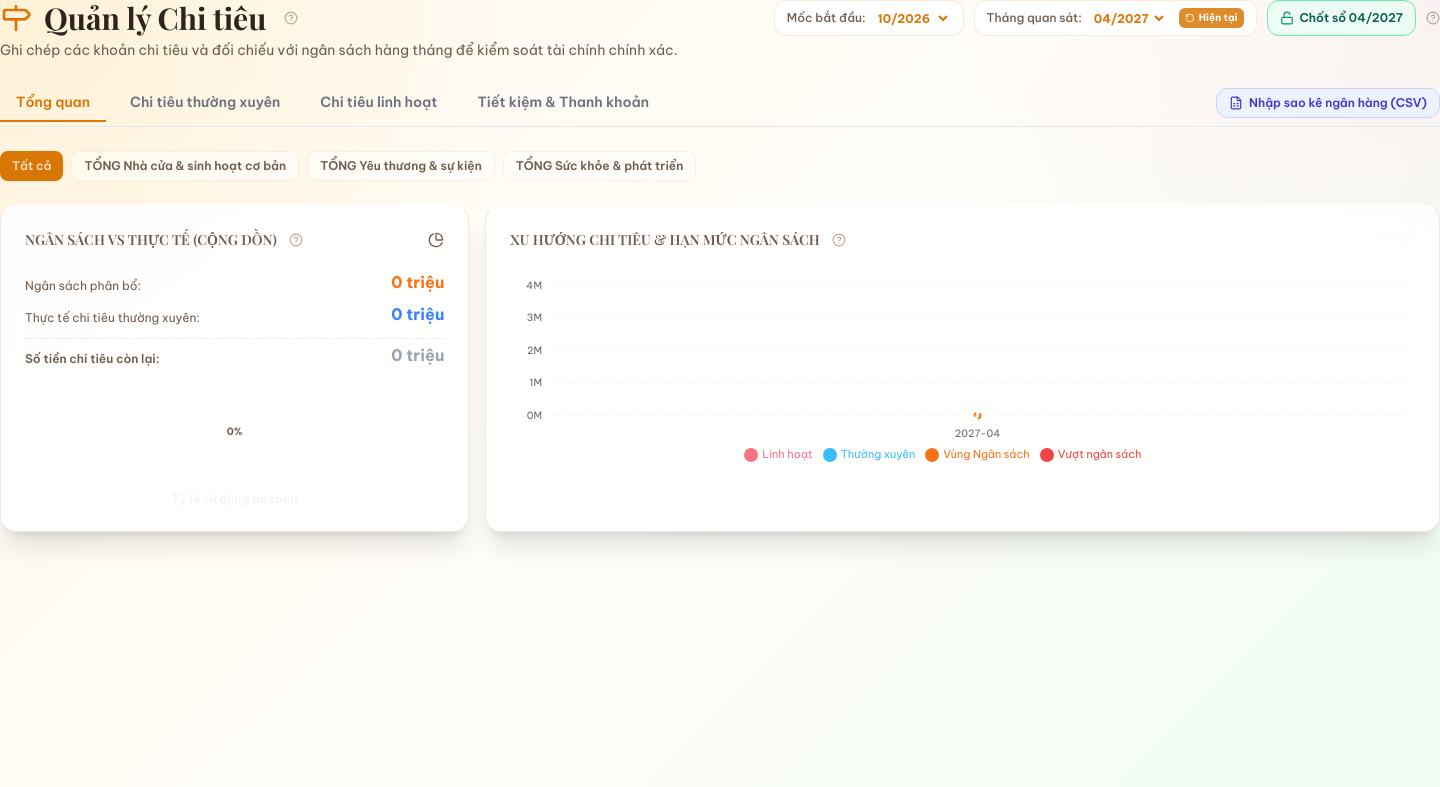
Test: LifeStages Component › opens add event modal when clicking "Thêm khoản chi linh hoạt"
Note: Switch to timeline tab
Click the button "Chi tiêu linh hoạt": [379, 103] box [304,84,453,122]
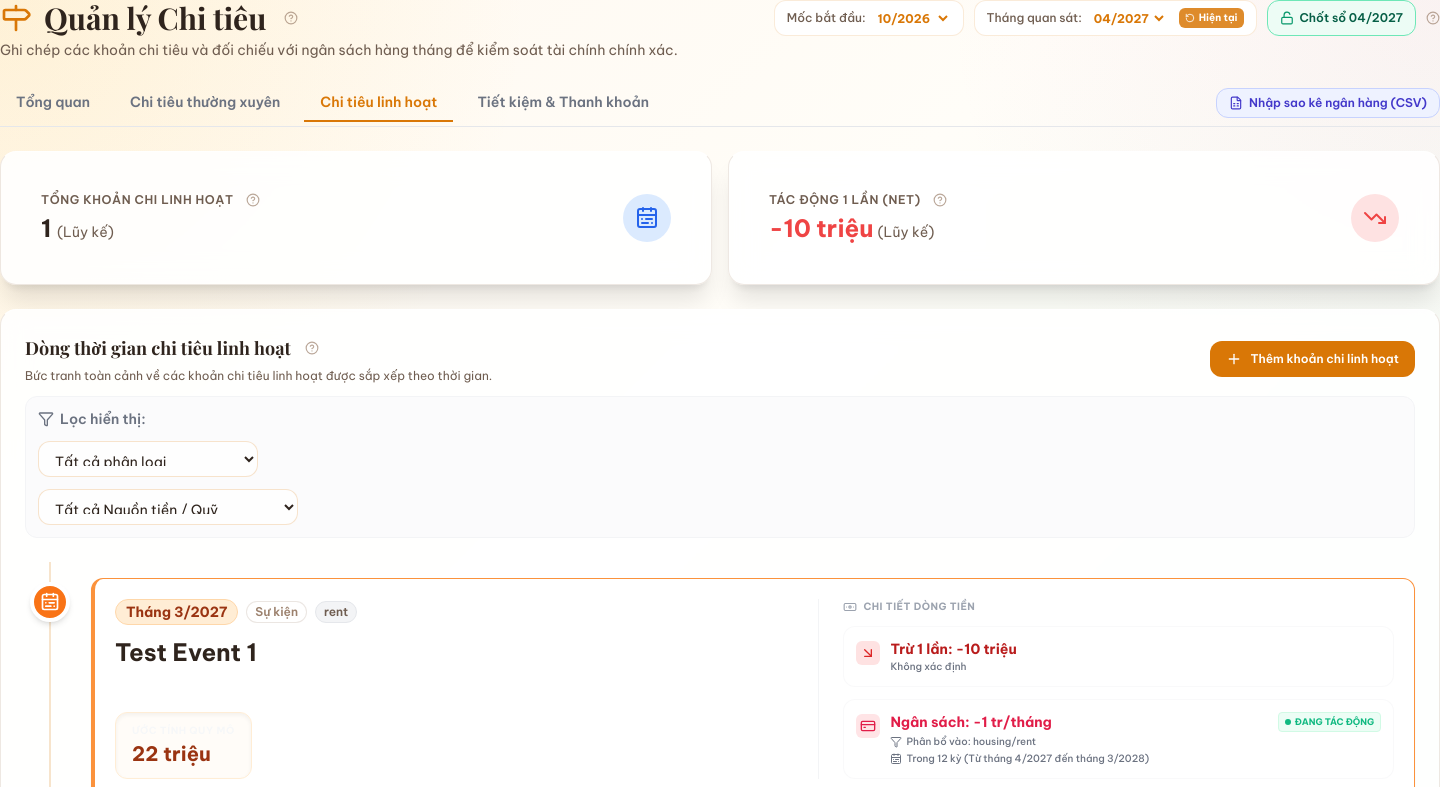
Click the button "Thêm khoản chi linh hoạt": [1313, 359] box [1210,341,1415,377]
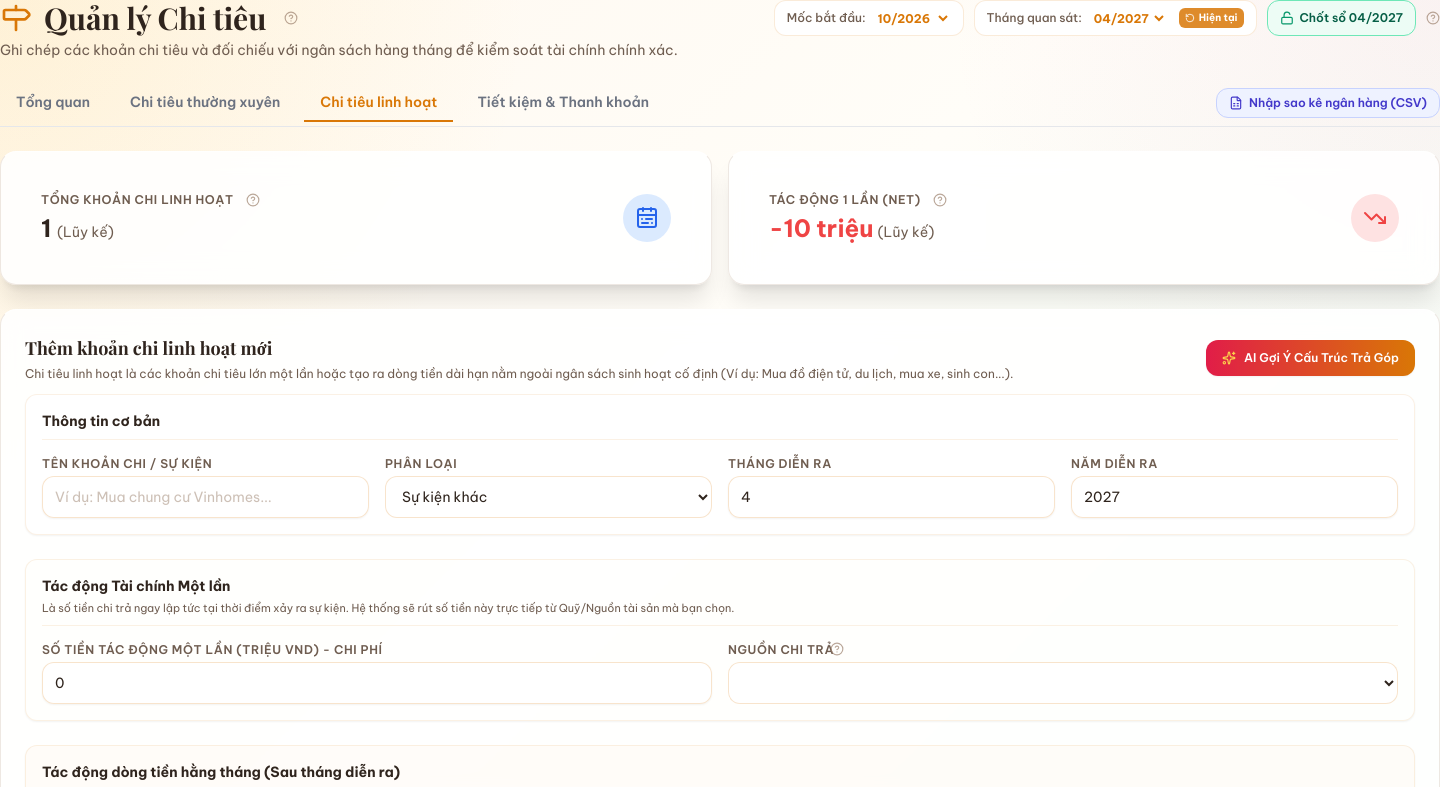
Expected: the text "Tên khoản chi / sự kiện" is shown, [42,456,212,471]
